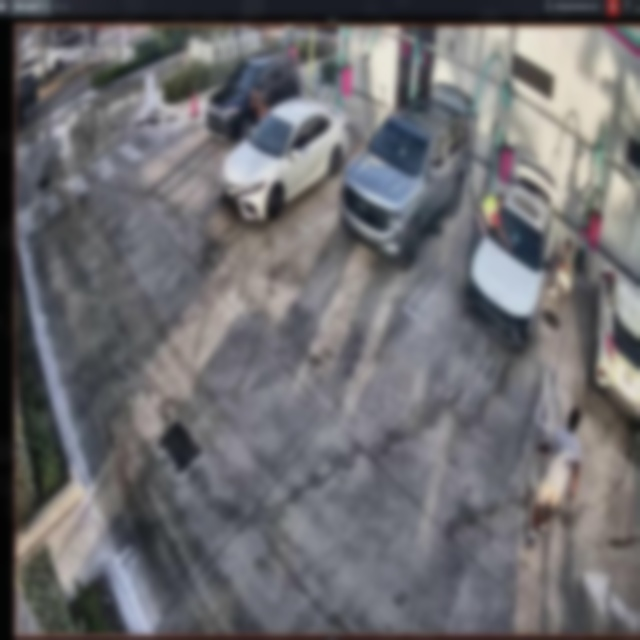Car: (342, 83, 471, 266), (216, 102, 347, 230), (471, 157, 556, 340)
